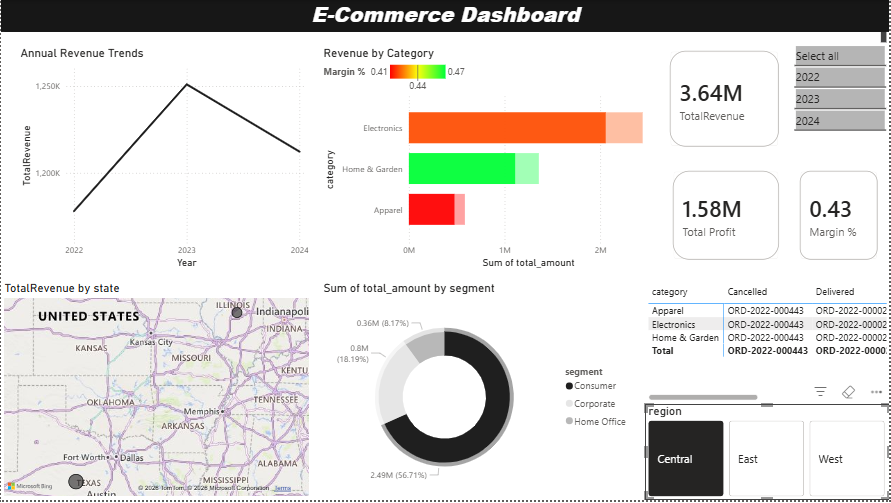

The page's visual inventory and layout, read from the dashboard file:
{"tool":"powerbi","page":{"name":"dashboard","canvas":[1280,720],"ordinal":0},"visuals":[{"type":"lineChart","title":"Annual Revenue Trends","fields":{"Category":["orders.order_date.Variation.Date Hierarchy.Year"],"Y":["order_items.TotalRevenue"]},"box":[23,66.2,424.8,325.4],"z":0},{"type":"map","fields":{"Category":["customers.state"],"Size":["order_items.TotalRevenue"]},"box":[0,404.6,447.8,315.4],"z":1000},{"type":"clusteredBarChart","title":"Revenue by Category","fields":{"Category":["products.category","products.sub_category"],"Y":["Sum(order_items.total_amount)"]},"box":[459.4,66.2,486.7,325.4],"z":2000},{"type":"donutChart","fields":{"Category":["customers.segment"],"Y":["Sum(order_items.total_amount)"]},"box":[459.4,404.6,455,315.4],"z":3000},{"type":"pivotTable","fields":{"Rows":["products.category"],"Columns":["orders.order_status"],"Values":["Min(orders.order_id)"]},"box":[927.4,404.6,352.8,177.1],"z":4000},{"type":"actionButton","box":[0,0,100,40],"z":5000},{"type":"listSlicer","fields":{"Values":["orders.order_date.Variation.Date Hierarchy.Year"]},"box":[1137.6,40.3,142.6,172.8],"z":5001},{"type":"advancedSlicerVisual","fields":{"Values":["customers.region"]},"box":[927.4,581.8,352.8,138.2],"z":5002},{"type":"textbox","title":"E-Commerce Dashboard","box":[0,0,1280.2,66.2],"z":5003},{"type":"cardVisual","fields":{"Data":["order_items.TotalRevenue"]},"box":[946.1,56.2,191.5,172.8],"z":5004},{"type":"cardVisual","fields":{"Data":["order_items.Total Profit"]},"box":[950.4,229,187.2,162.7],"z":5005},{"type":"cardVisual","fields":{"Data":["order_items.Margin %"]},"box":[1133.3,229,146.9,162.7],"z":5006}]}

Visuals, with their boxes in screenshot pixels (x1, y1, x2, y2), scaled from the page's 1280x720 canvas onto the 891x503 screenshot:
"Annual Revenue Trends" lineChart: l=16, t=46, r=312, b=274
map - customers.state x order_items.TotalRevenue: l=0, t=283, r=312, b=502
"Revenue by Category" clusteredBarChart: l=320, t=46, r=659, b=274
donutChart - customers.segment x Sum(order_items.total_amount): l=320, t=283, r=637, b=502
pivotTable - products.category x orders.order_status: l=646, t=283, r=890, b=406
actionButton: l=0, t=0, r=70, b=28
listSlicer - orders.order_date.Variation.Date Hierarchy.Year: l=792, t=28, r=890, b=149
advancedSlicerVisual - customers.region: l=646, t=406, r=890, b=502
"E-Commerce Dashboard" textbox: l=0, t=0, r=890, b=46
cardVisual - order_items.TotalRevenue: l=659, t=39, r=792, b=160
cardVisual - order_items.Total Profit: l=662, t=160, r=792, b=274
cardVisual - order_items.Margin %: l=789, t=160, r=890, b=274
